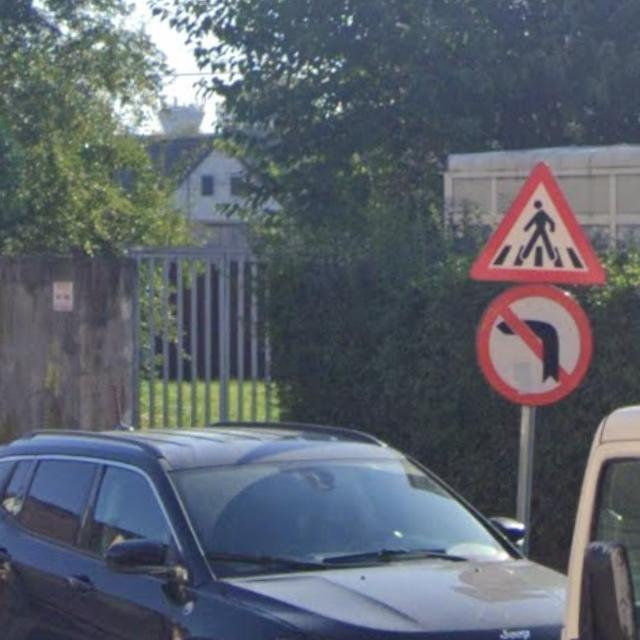warn_crosswalk: (465, 162, 610, 287)
